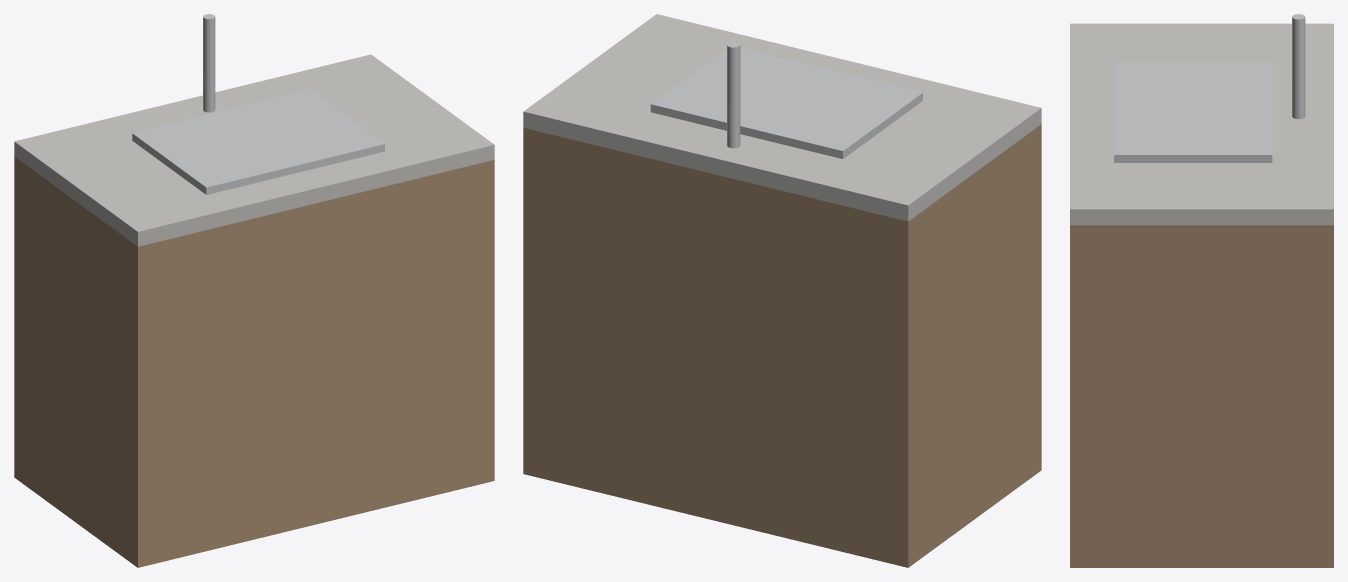
File: 1757-Furniture-interiors-sink.glb
The picture shows the model from 3 angles, left to right: view 1: azimuth 30°, elevation 25°; view 2: azimuth 150°, elevation 25°; view 3: azimuth 270°, elevation 25°; orthographic projection. The views are drawn at different scales.
Parts seen in each view (by area): view 1: Furniture (interiors)/sink; view 2: Furniture (interiors)/sink; view 3: Furniture (interiors)/sink.
Part boxes in pixels (x1,y1,x2,y2): Furniture (interiors)/sink: [14, 14, 494, 567]; Furniture (interiors)/sink: [523, 14, 1041, 567]; Furniture (interiors)/sink: [1070, 14, 1333, 567].
Size of the model in its own units: 1 by 1.15 by 0.6.
